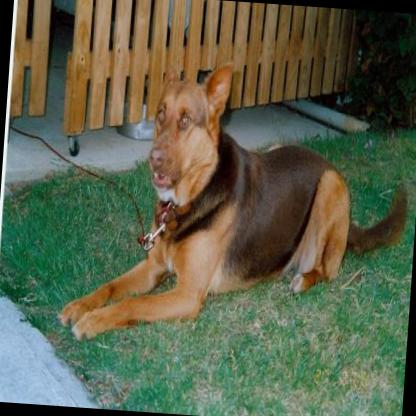kelpie: (60, 51, 416, 357)
